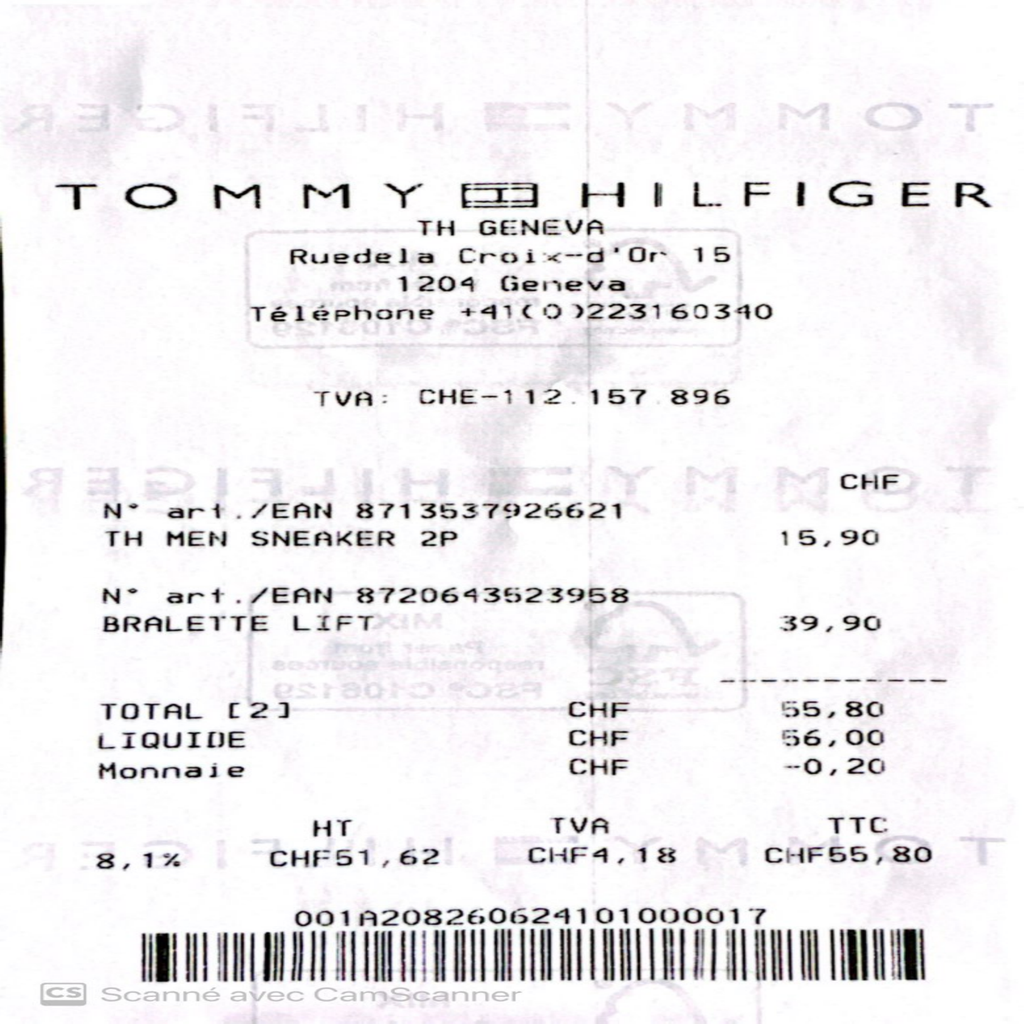recipt: (2, 0, 1022, 1020)
